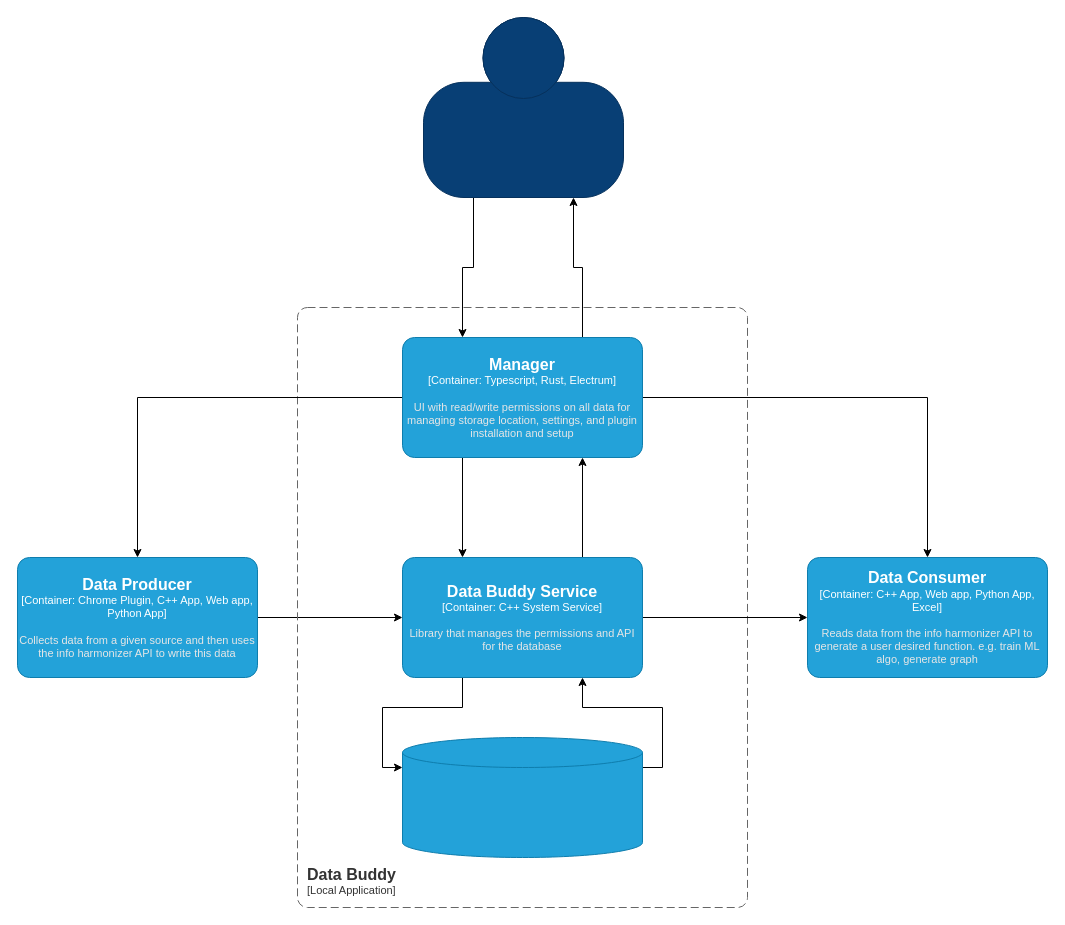
Image size: 1065x925. Some labels were removed from this diagram. The centre of each missing label's shape, as x and y in pixels:
"Database [Container : RockDB] Data storage database" belongs at pixel 522 797.
"User [Person] User" belongs at pixel 523 107.
